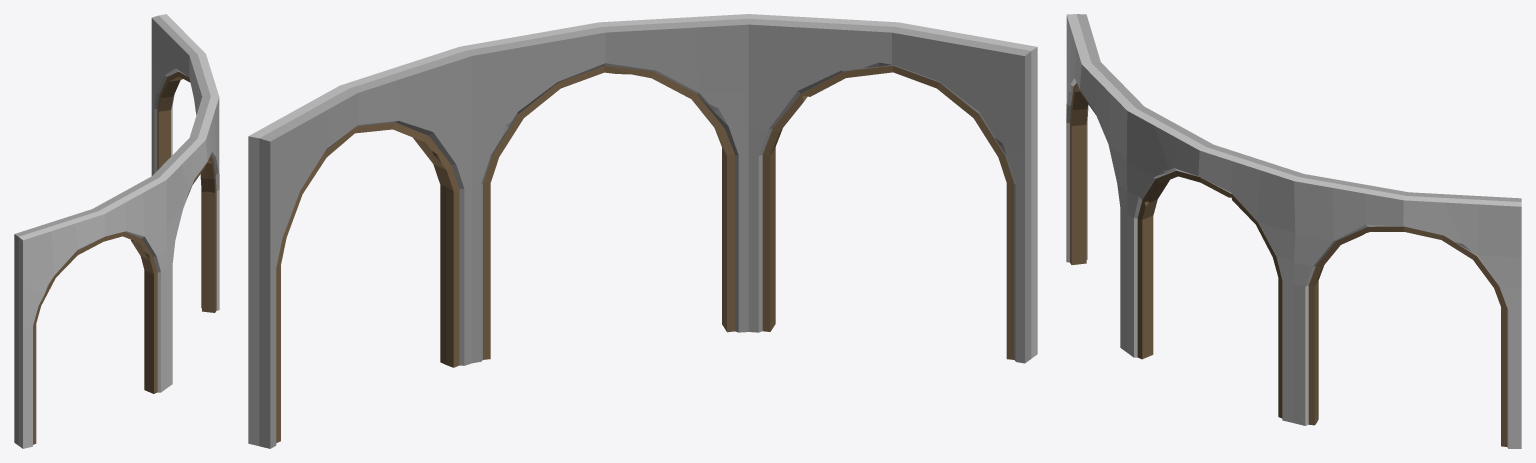
File: SM_Bld_Wall_Curved_Large_Arch_01.fbx
3 renders of one model, left to right at view 1: azimuth 30°, elevation 25°; view 2: azimuth 150°, elevation 25°; view 3: azimuth 270°, elevation 25°, orthographic. The views are drawn at different scales.
Parts seen in each view (by area): view 1: SM_Bld_Wall_Curved_Large_Arch_01; view 2: SM_Bld_Wall_Curved_Large_Arch_01; view 3: SM_Bld_Wall_Curved_Large_Arch_01.
Part boxes in pixels (x1=…): SM_Bld_Wall_Curved_Large_Arch_01: x1=14, y1=14, x2=219, y2=448; SM_Bld_Wall_Curved_Large_Arch_01: x1=248, y1=14, x2=1037, y2=448; SM_Bld_Wall_Curved_Large_Arch_01: x1=1066, y1=14, x2=1521, y2=448.
Bounding box in the file's own units: 512 × 301 × 512.
